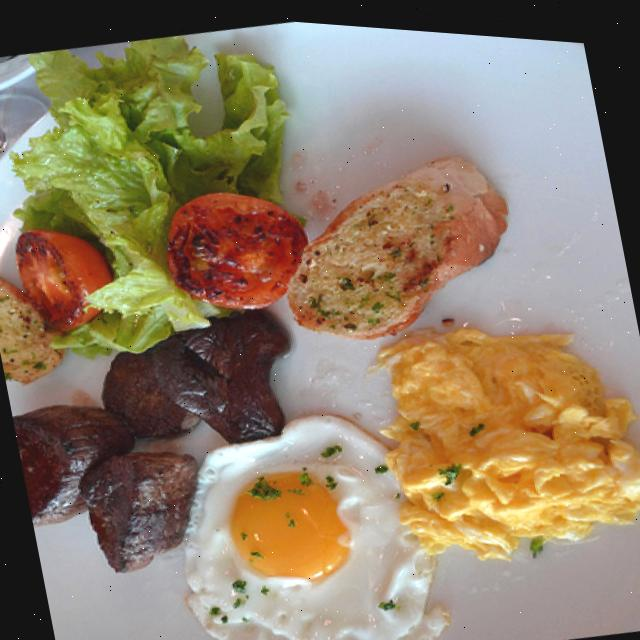鸡蛋料理: (138, 387, 423, 640)
